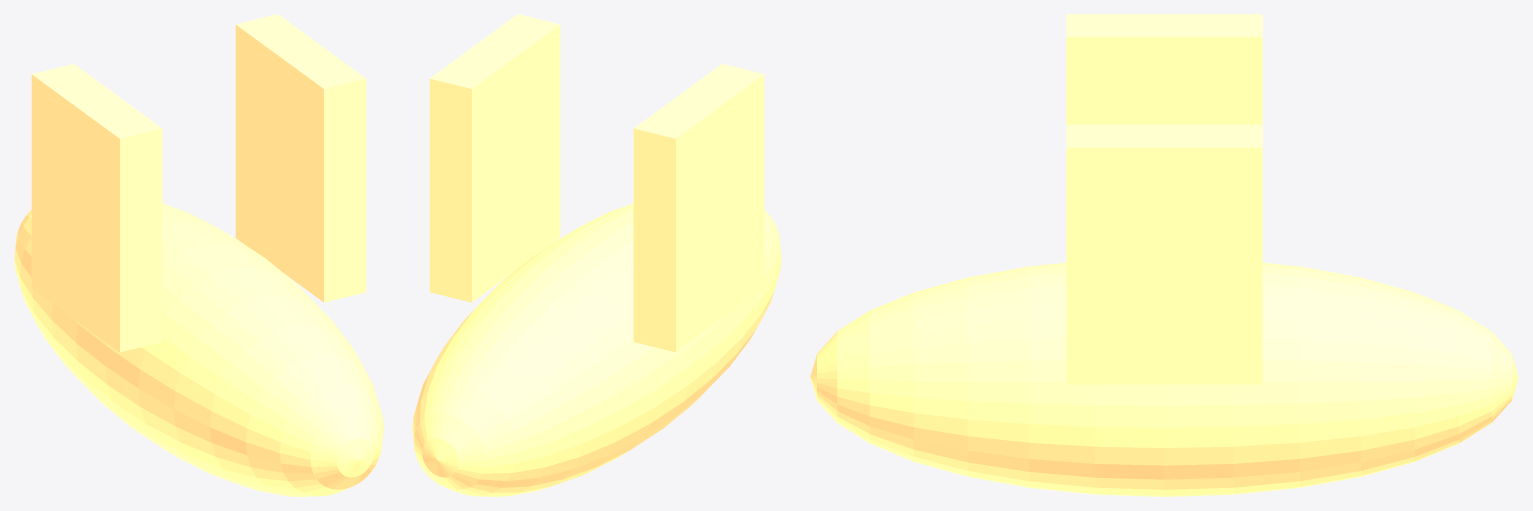
The model's file is homing_missile.glb.
3 views of the same model, side by side, from view 1: azimuth 30°, elevation 25°; view 2: azimuth 150°, elevation 25°; view 3: azimuth 270°, elevation 25° (orthographic). The views are drawn at different scales.
Parts seen in each view (by area): view 1: body, fin_-1, fin_1; view 2: body, fin_-1, fin_1; view 3: body, fin_1, fin_-1.
Part boxes in pixels (x1=…): body: x1=14, y1=203, x2=383, y2=496; fin_-1: x1=31, y1=64, x2=162, y2=352; fin_1: x1=235, y1=14, x2=366, y2=302; body: x1=412, y1=203, x2=781, y2=496; fin_-1: x1=633, y1=64, x2=764, y2=352; fin_1: x1=429, y1=14, x2=560, y2=302; body: x1=810, y1=262, x2=1518, y2=496; fin_1: x1=1066, y1=124, x2=1262, y2=384; fin_-1: x1=1066, y1=14, x2=1262, y2=124.
Bounding box in the file's own units: 0.29 × 0.41 × 0.65.
